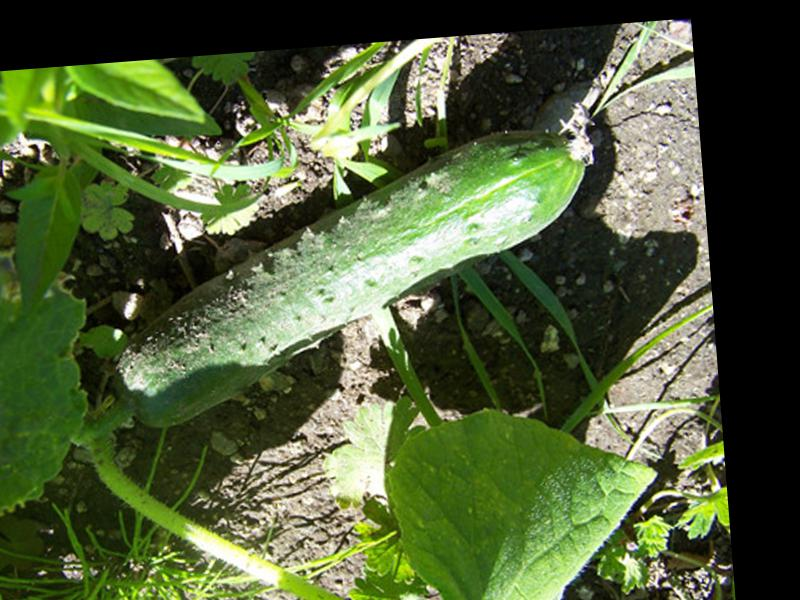Cucumber: (93, 123, 610, 432)
